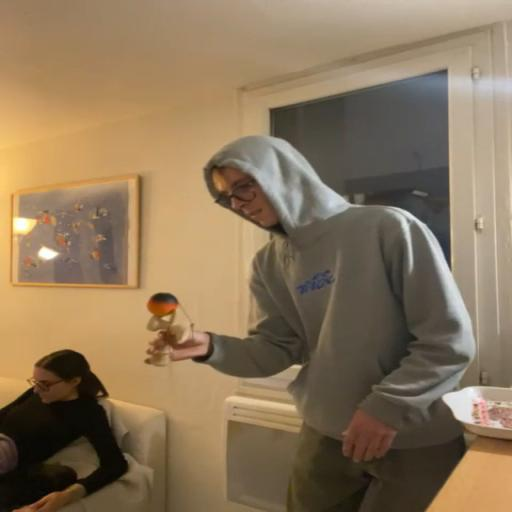kendama_ball: (148, 292, 180, 317)
